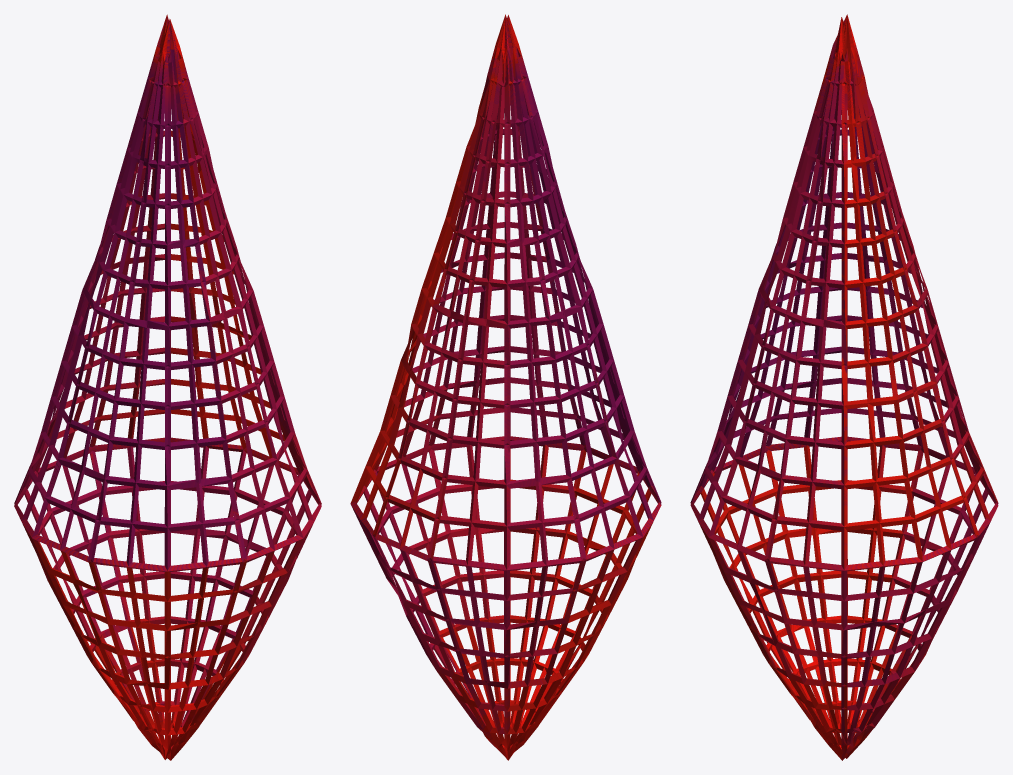
File: RedCrystall.fbx
The picture shows the model from 3 angles, left to right: view 1: azimuth 30°, elevation 25°; view 2: azimuth 150°, elevation 25°; view 3: azimuth 270°, elevation 25°; orthographic projection.
Parts seen in each view (by area): view 1: Плоскость; view 2: Плоскость; view 3: Плоскость.
Boxes of the visible parts, box(x1,y1,x2,y2) form: Плоскость: box(14, 14, 321, 760); Плоскость: box(350, 14, 661, 760); Плоскость: box(690, 14, 998, 760).
Size of the model in its own units: 47.2 by 124 by 46.3.
